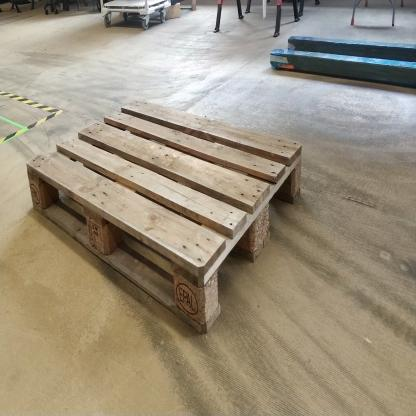BoxFace: (22, 93, 304, 342)
